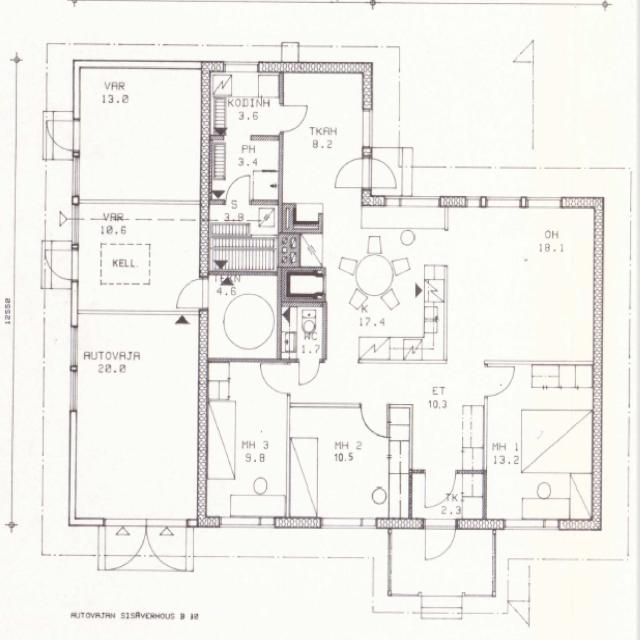door: (105, 522, 146, 574), (146, 522, 186, 574), (425, 520, 455, 562), (335, 158, 373, 188), (362, 158, 400, 188), (45, 250, 80, 280), (426, 469, 455, 505), (176, 279, 209, 307), (484, 367, 514, 396), (48, 122, 80, 149), (361, 403, 387, 435), (262, 364, 291, 392), (226, 174, 249, 204), (278, 106, 305, 130), (299, 358, 319, 385)
